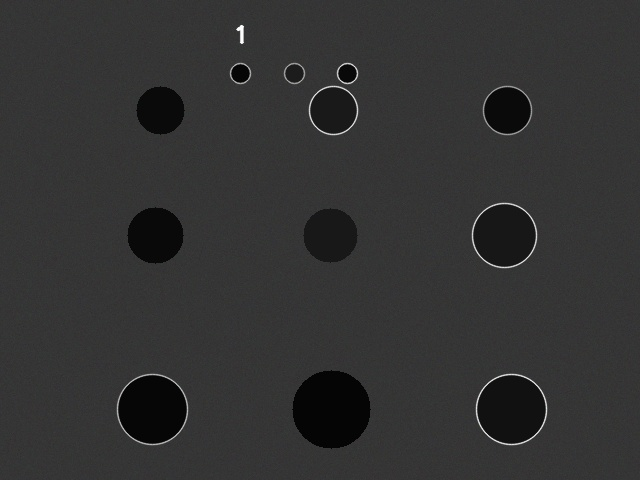hole: (292, 370, 370, 448), (117, 374, 187, 444), (476, 374, 546, 444), (472, 203, 536, 267), (127, 207, 183, 263), (303, 208, 357, 262), (136, 86, 184, 134), (309, 86, 357, 134), (483, 86, 531, 134), (230, 63, 250, 83), (284, 63, 304, 83), (337, 63, 357, 83)
